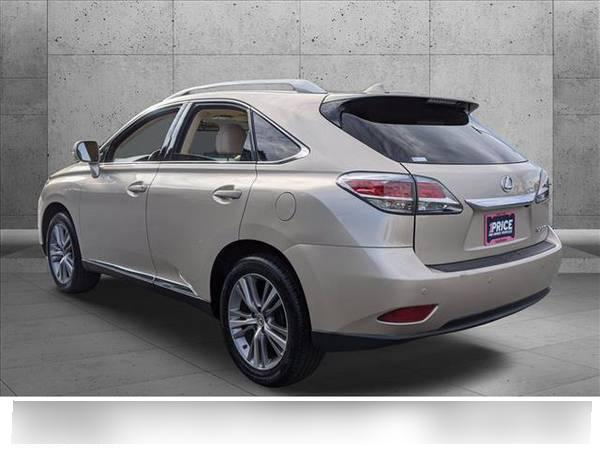Front_Fender: (38, 162, 92, 256)
Front_Left_Door: (75, 162, 154, 282)
Front_Left_Window: (94, 101, 187, 164)
Left_Taillight: (339, 170, 464, 214)
Rear_Bumper: (279, 225, 559, 342)
Rear_Fender: (237, 164, 412, 249)
Rear_Left_Door: (143, 161, 253, 300)
Rear_Left_Window: (159, 102, 308, 165)
Rear_Windshield: (338, 99, 524, 165)
Roof: (100, 88, 409, 170)
Tailgate: (399, 160, 548, 262)
Wheel: (211, 252, 323, 378), (44, 210, 101, 289)
